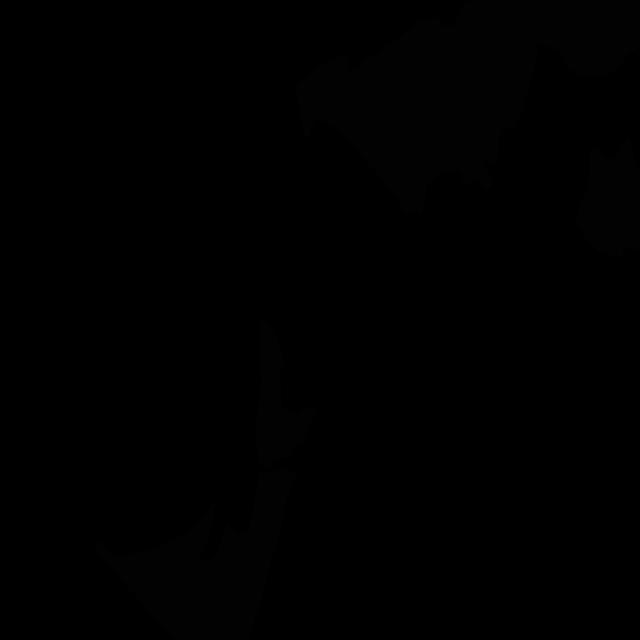cardboard: (294, 0, 640, 215), (96, 468, 298, 640), (256, 319, 316, 468), (574, 137, 640, 257)
